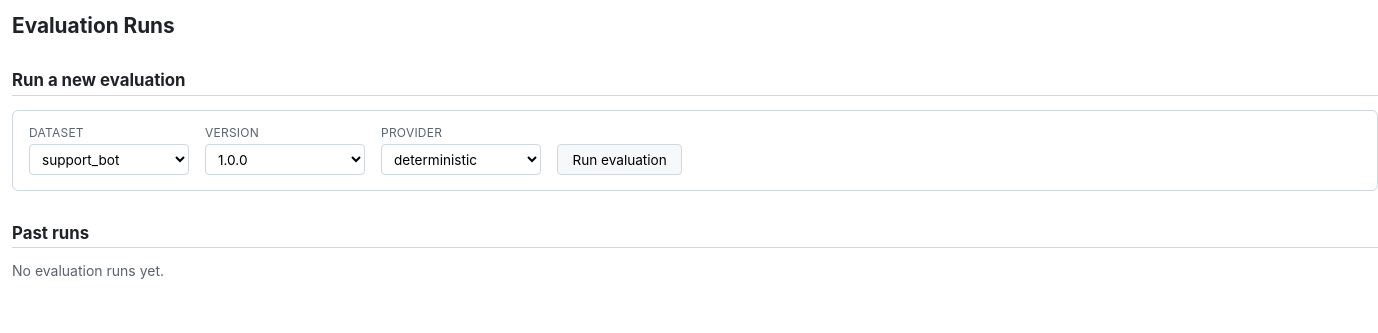
Test: RunsList › new evaluation form › shows an error and does not navigate when the submission fails
The image size is (1378, 333).
Check: the dropdown labelled "Dataset" shows "support_bot", box x1=29 y1=144 x2=189 y2=175
Click the button "Run evaluation": (620, 160) x1=557 y1=144 x2=682 y2=175
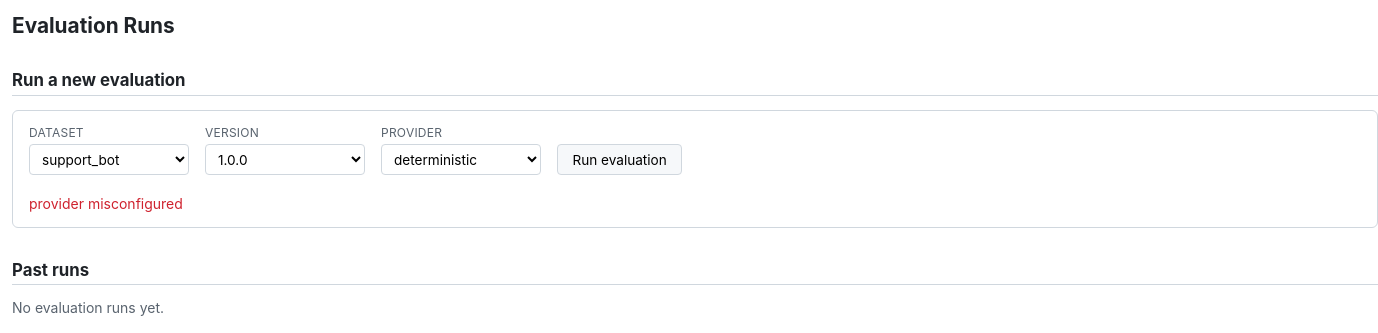
Check: the text "provider misconfigured" is shown, box x1=29 y1=195 x2=183 y2=212
